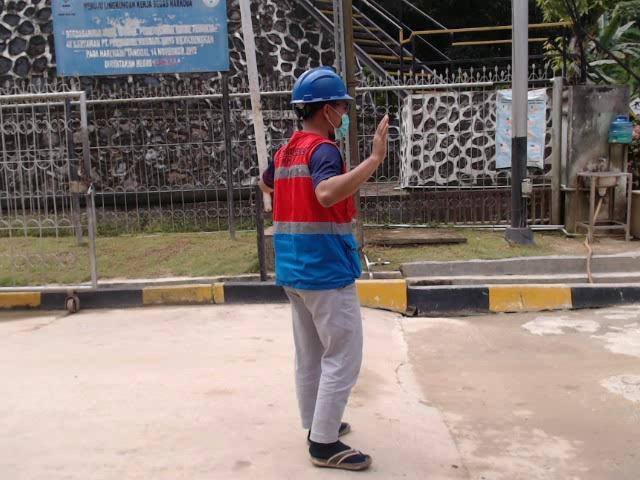helmet: (288, 68, 357, 105)
